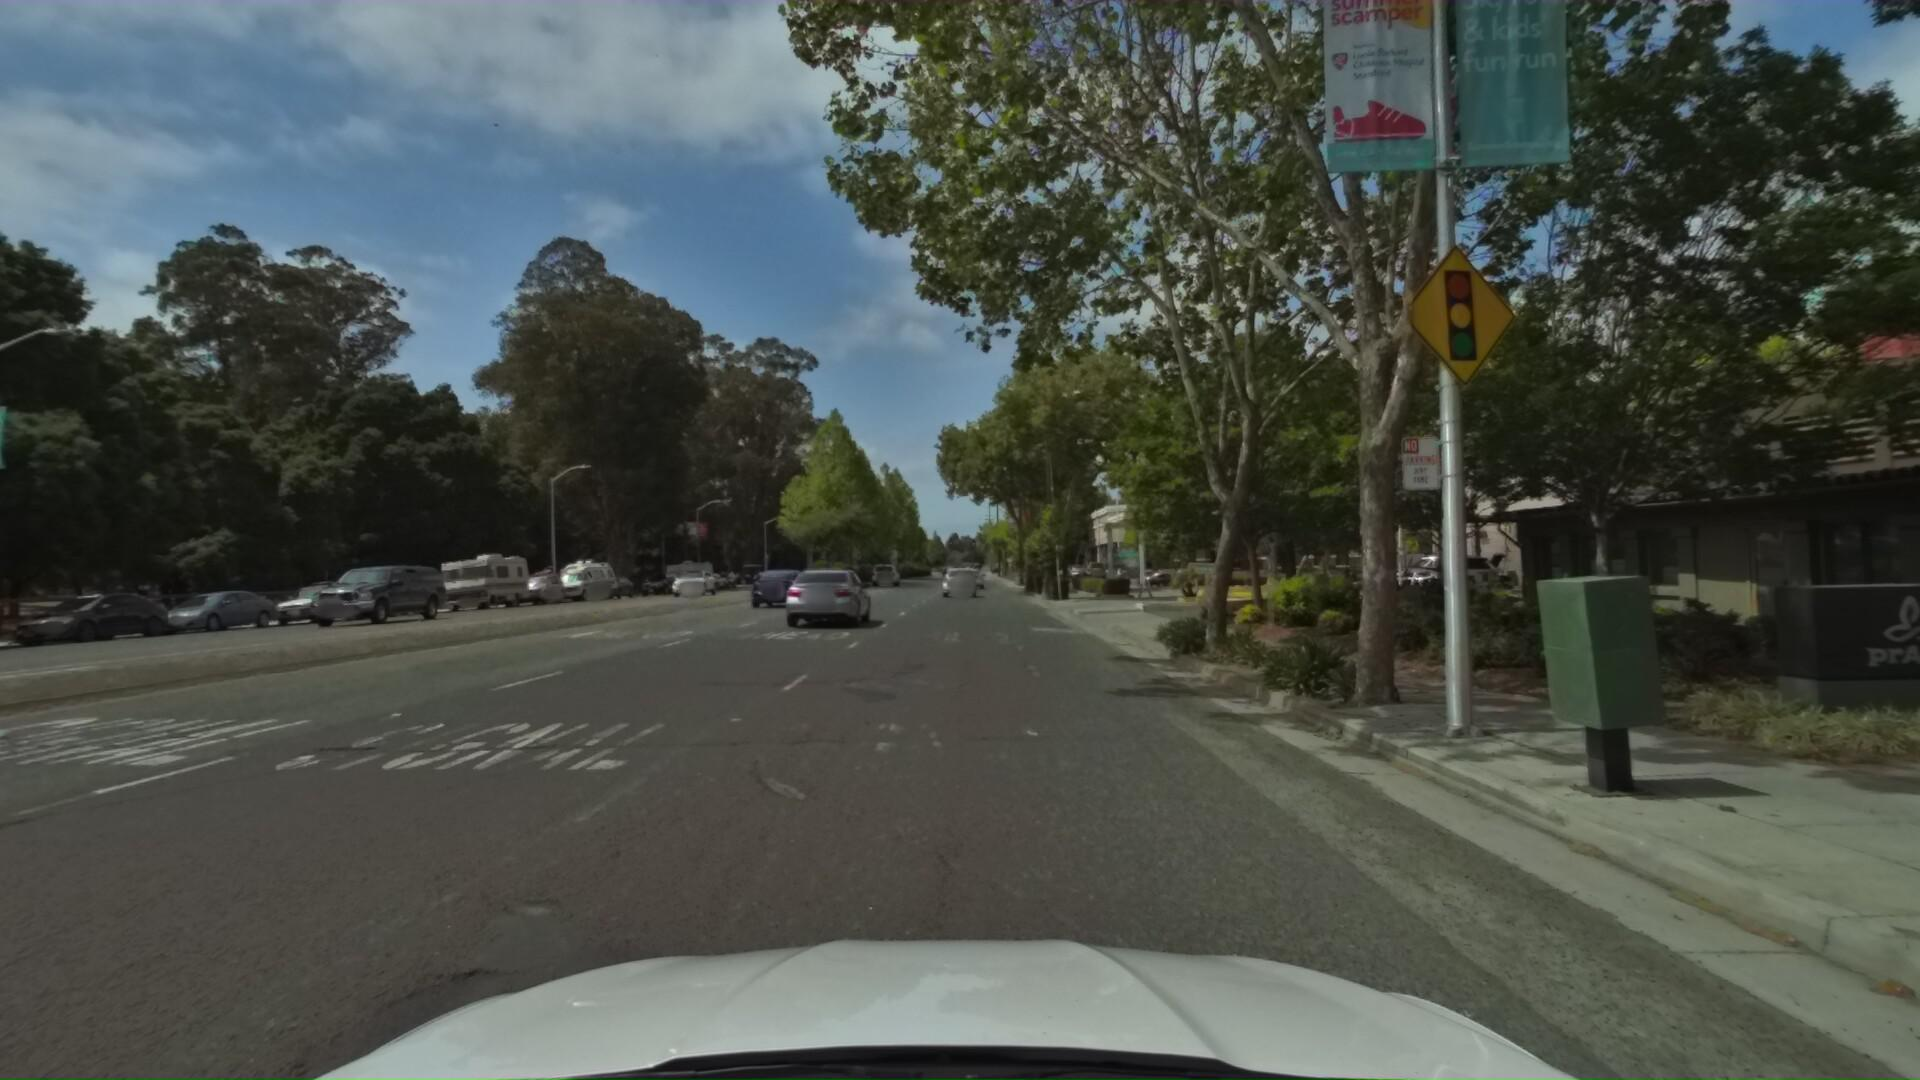bicycle: (1274, 564, 1305, 583)
car: (277, 568, 440, 636), (127, 585, 280, 640), (1364, 549, 1509, 596), (775, 567, 876, 632), (1335, 559, 1486, 600), (253, 582, 363, 628), (1396, 559, 1518, 593), (741, 568, 810, 611), (502, 564, 568, 608), (1135, 564, 1212, 591), (935, 566, 976, 605), (667, 571, 717, 603), (636, 571, 679, 597), (870, 560, 903, 585), (959, 571, 982, 593)
other_vehicle: (423, 549, 531, 612), (541, 556, 616, 604)
